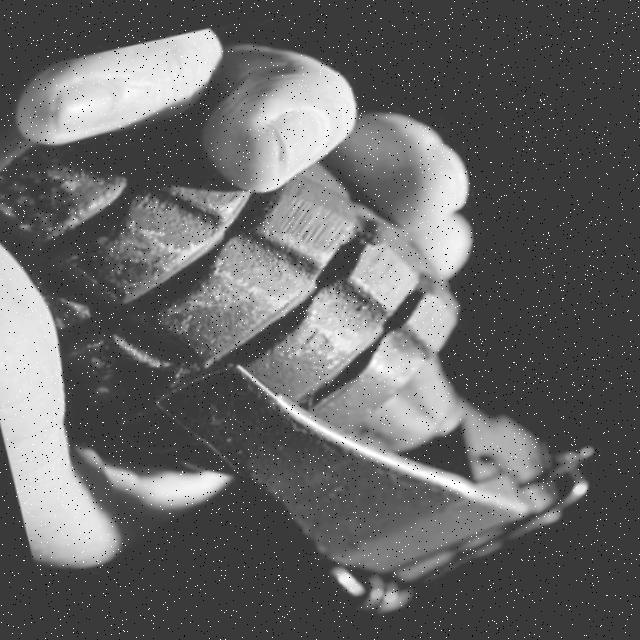grenade: (0, 23, 629, 640)
